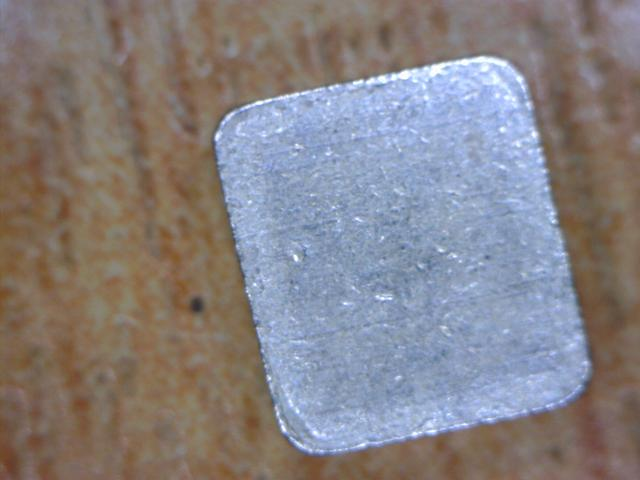ok: (204, 50, 601, 461)
